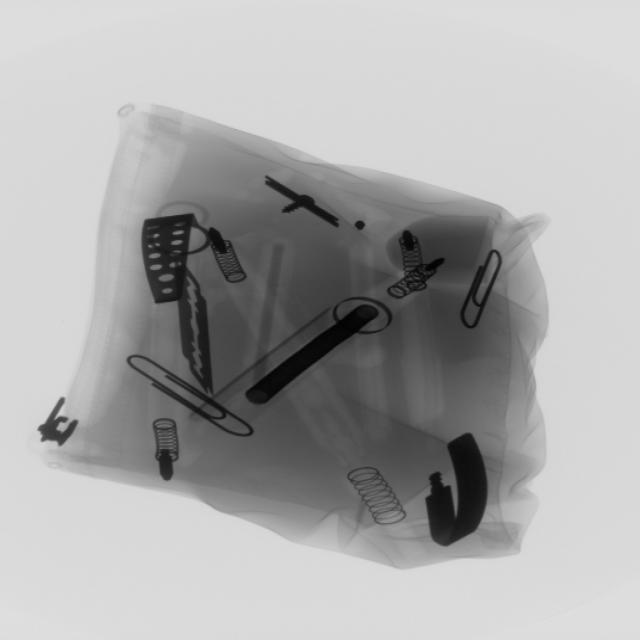BLADE: (170, 261, 224, 401)
